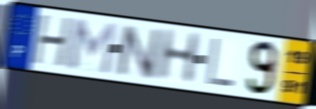9: (244, 39, 281, 97)
H: (153, 27, 203, 84), (30, 13, 76, 70)
L: (204, 36, 236, 89)
M: (67, 16, 119, 76)
N: (116, 23, 162, 82)
